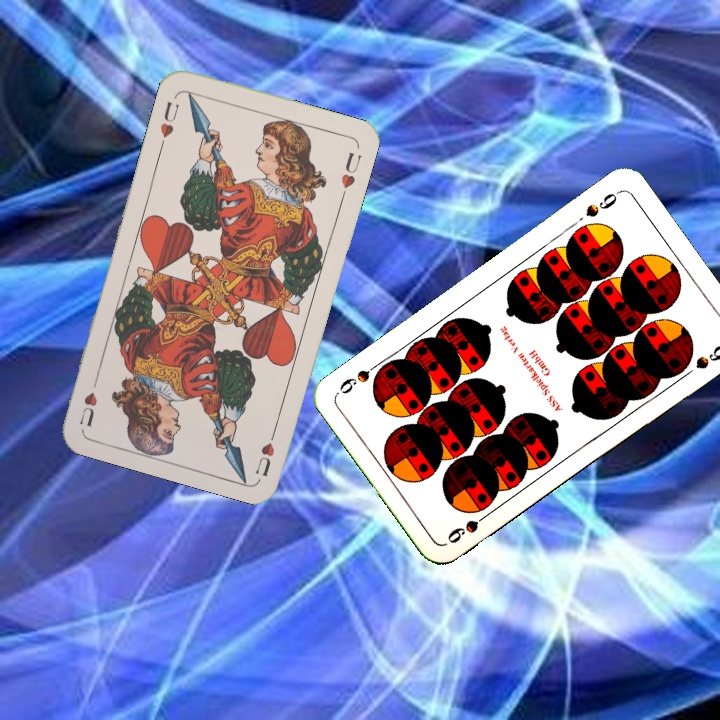HU: (251, 422, 280, 479), (156, 97, 182, 150)
S9: (442, 507, 495, 547), (581, 186, 622, 221)
